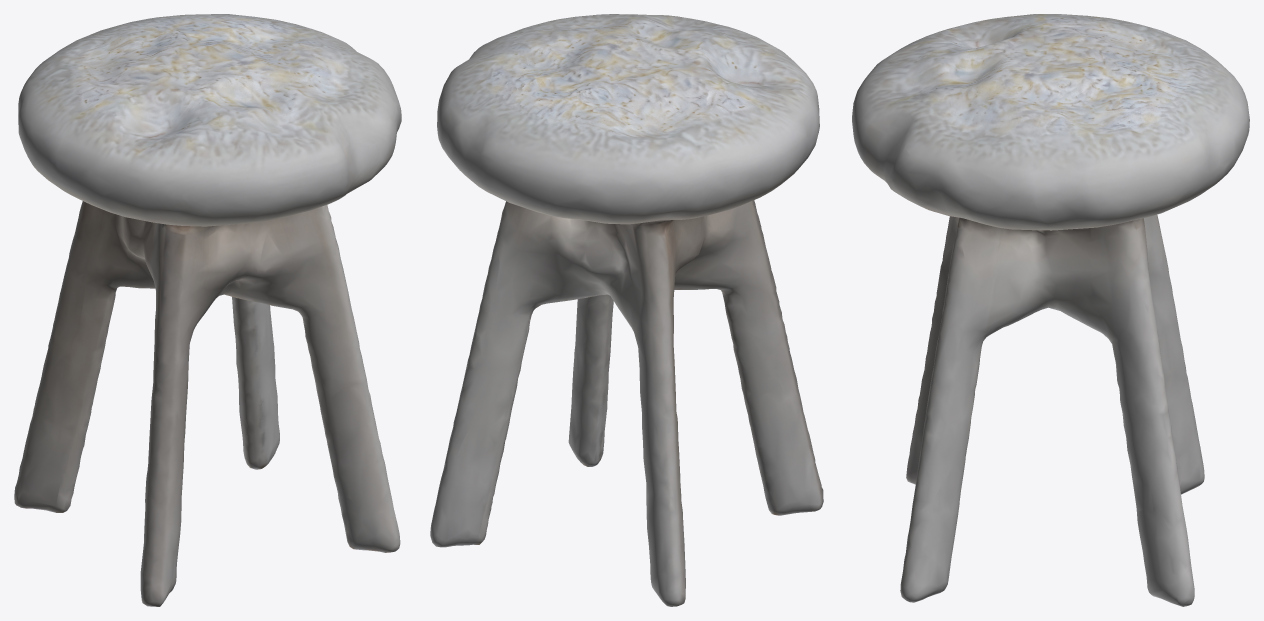
File: chair.glb
3 renders of one model, left to right at view 1: azimuth 30°, elevation 25°; view 2: azimuth 150°, elevation 25°; view 3: azimuth 270°, elevation 25°, orthographic. The views are drawn at different scales.
Bounding box in the file's own units: 0.8928 × 1.2 × 0.8957.
1 material, 1 textured.
